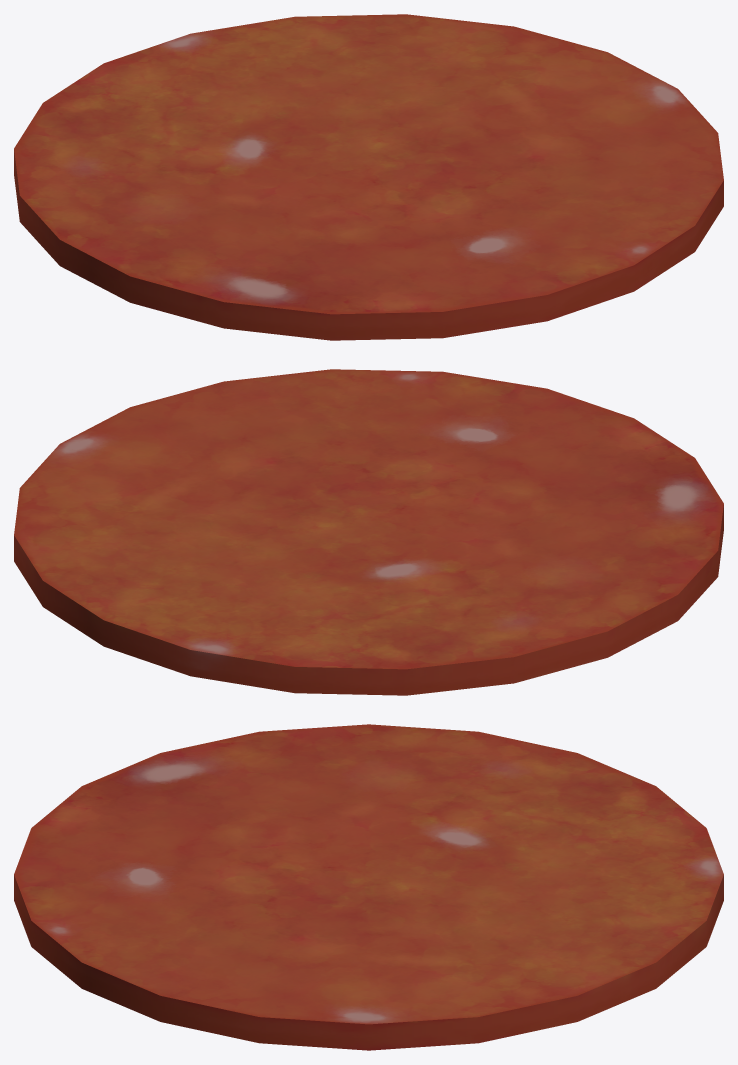
File: pepperoni.glb
3 renders of one model, top to bottom at view 1: azimuth 30°, elevation 25°; view 2: azimuth 150°, elevation 25°; view 3: azimuth 270°, elevation 25°, orthographic.
Visible parts, largest first — view 1: Pepperoni; view 2: Pepperoni; view 3: Pepperoni.
Part boxes in pixels (left/top/right/bottom): Pepperoni: left=14, top=14, right=723, bottom=340; Pepperoni: left=14, top=369, right=723, bottom=695; Pepperoni: left=14, top=724, right=723, bottom=1050.
Size of the model in its own units: 6.82 by 0.2775 by 6.82.
1 material, 1 textured.
